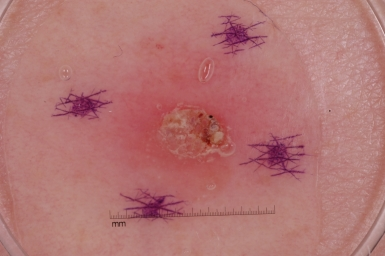seborrheic keratosis: (132, 57, 243, 176)
